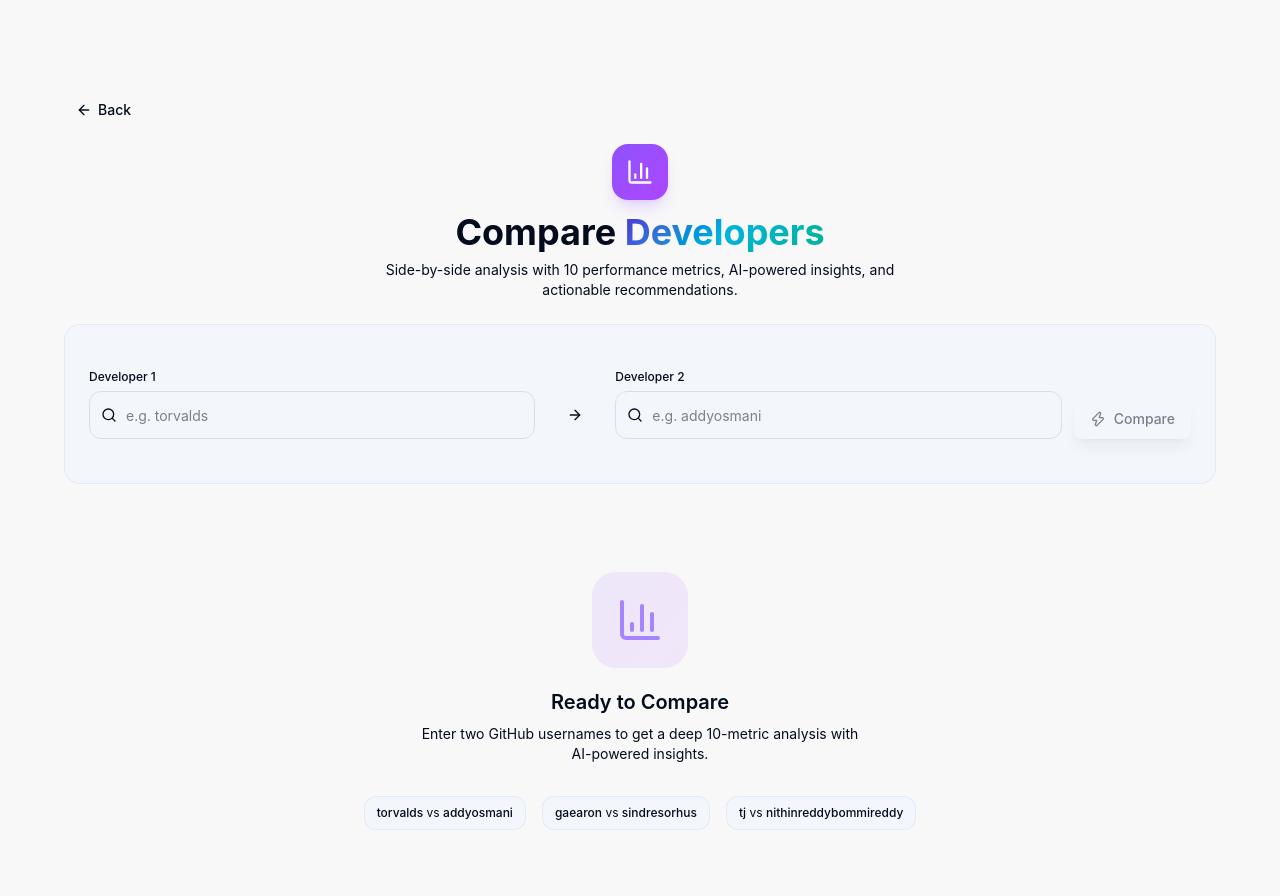
Scenario: ComparePage › attributes the metric explanation to the user it describes
Type "alice" into the field with placeholder "e.g. torvalds". click: [312, 415]
box: [89, 391, 535, 439]
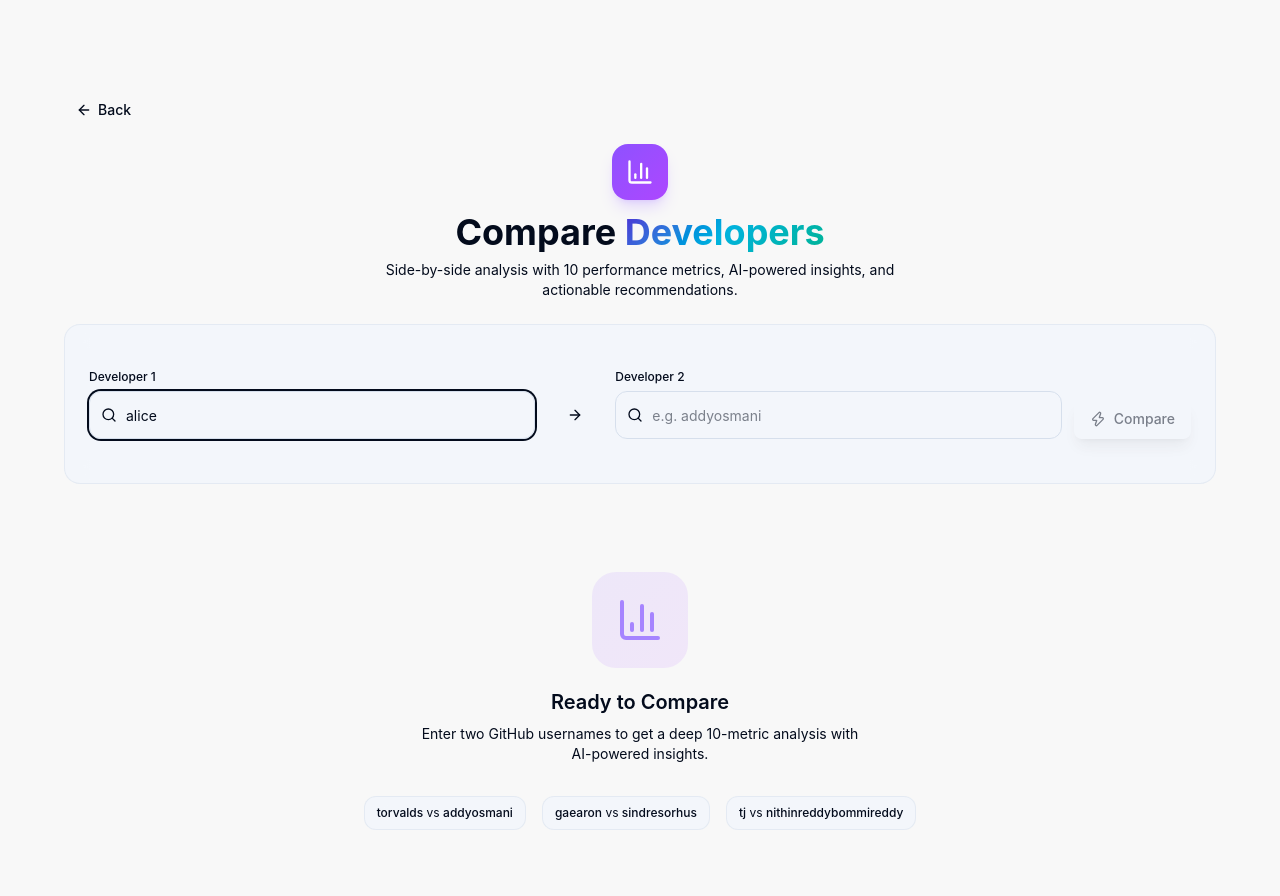
Type "bob" into the field with placeholder "e.g. addyosmani". click: [839, 415]
box: [615, 391, 1062, 439]
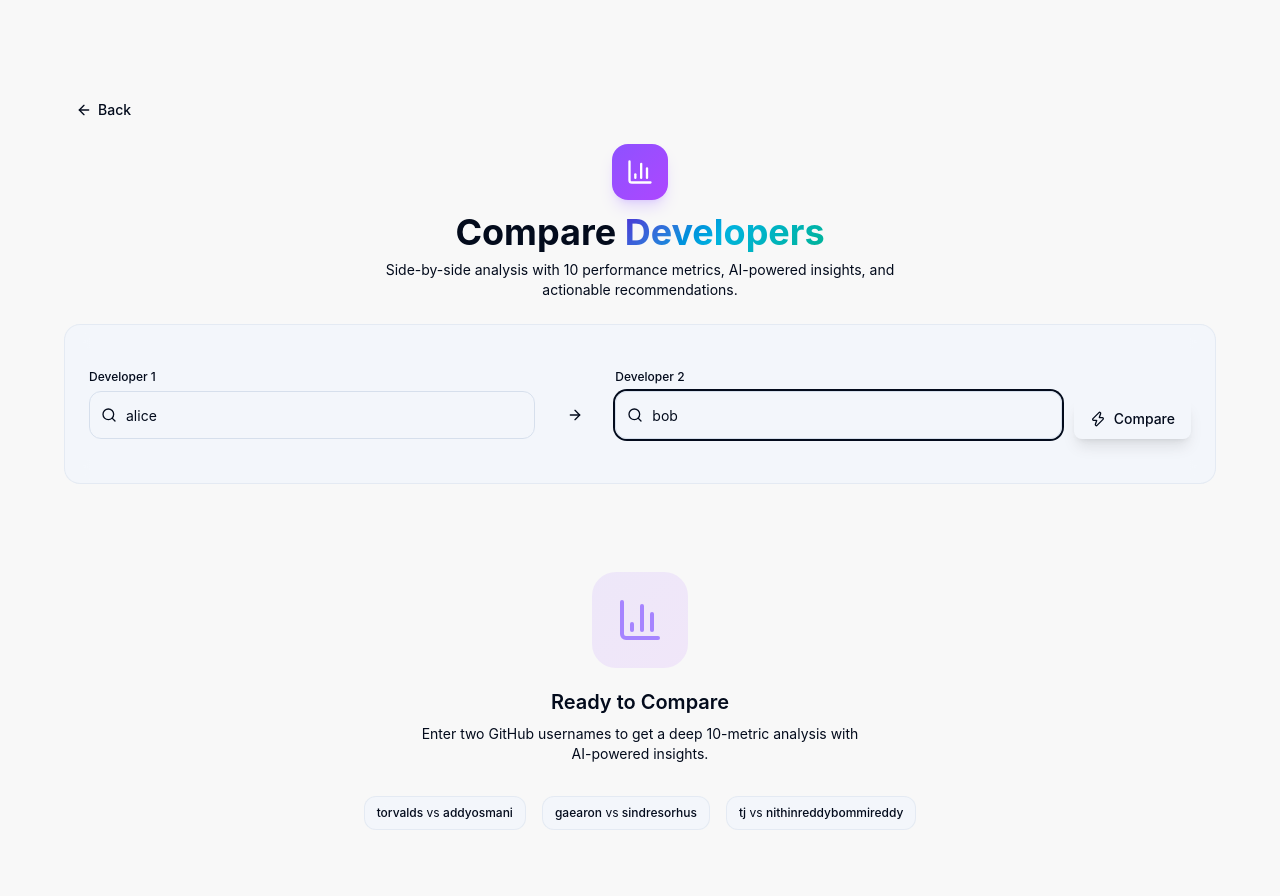
Click the button "Compare". click: [1132, 419]
box: [1074, 399, 1191, 439]
(page scrolled)
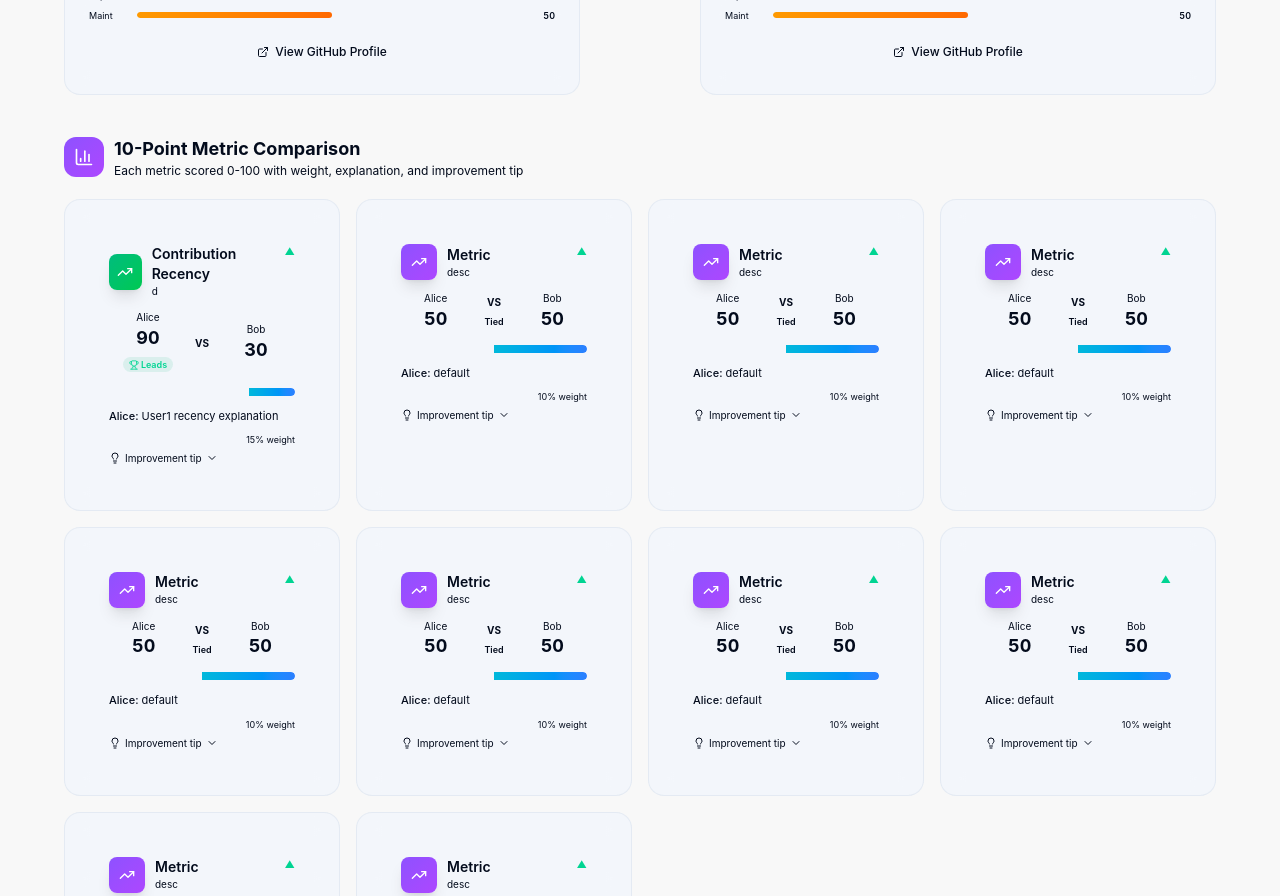
Result: the text "Alice: User1 recency explanation" is shown at [109, 408, 295, 425]
